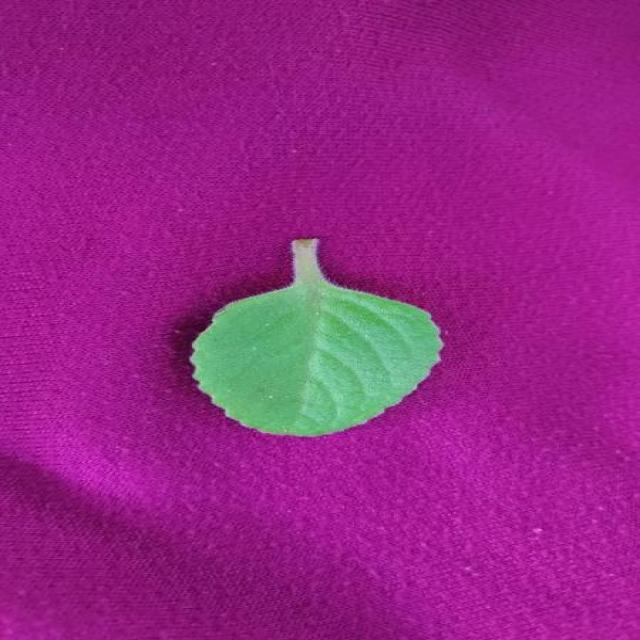doddpathre: (190, 239, 442, 436)
